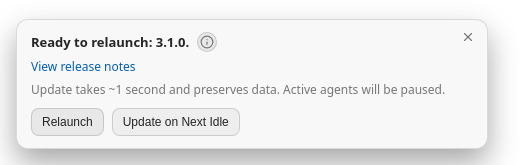
Test: UpdateNoticeBanner › disables Update Now while desktop restart is in flight
The image size is (522, 165).
Click the button "Relaunch". click: [67, 122]
box: x1=31 y1=108 x2=104 y2=136
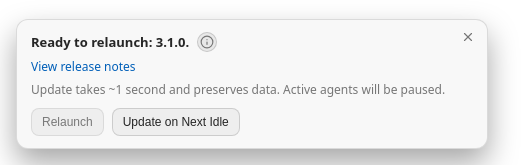
Expected: the button "Relaunch" is disabled, x1=31 y1=108 x2=104 y2=136
